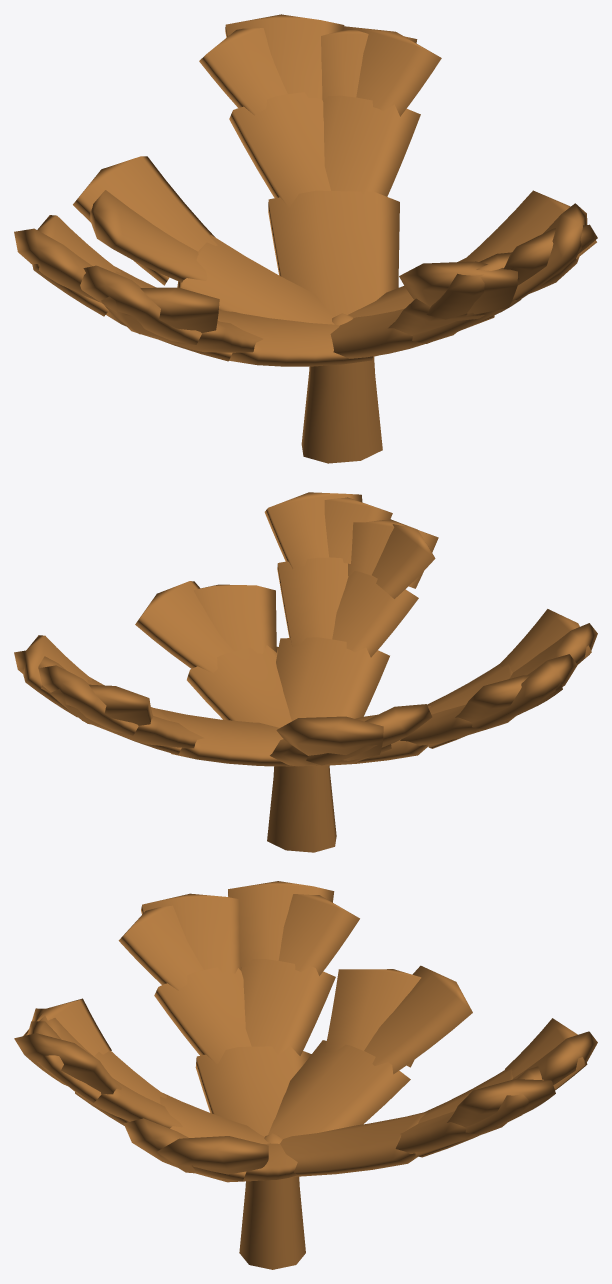
File: corail-corne.glb
3 views of the same model, one above another, from view 1: azimuth 30°, elevation 25°; view 2: azimuth 150°, elevation 25°; view 3: azimuth 270°, elevation 25° (orthographic). The views are drawn at different scales.
Visible parts, largest first — view 1: corail-corne; view 2: corail-corne; view 3: corail-corne.
Boxes of the visible parts, box(x1,y1,x2,y2) form: corail-corne: box(14, 14, 597, 463); corail-corne: box(14, 492, 597, 852); corail-corne: box(14, 881, 597, 1269).
Bounding box in the file's own units: 2.53 × 1.36 × 2.8.
